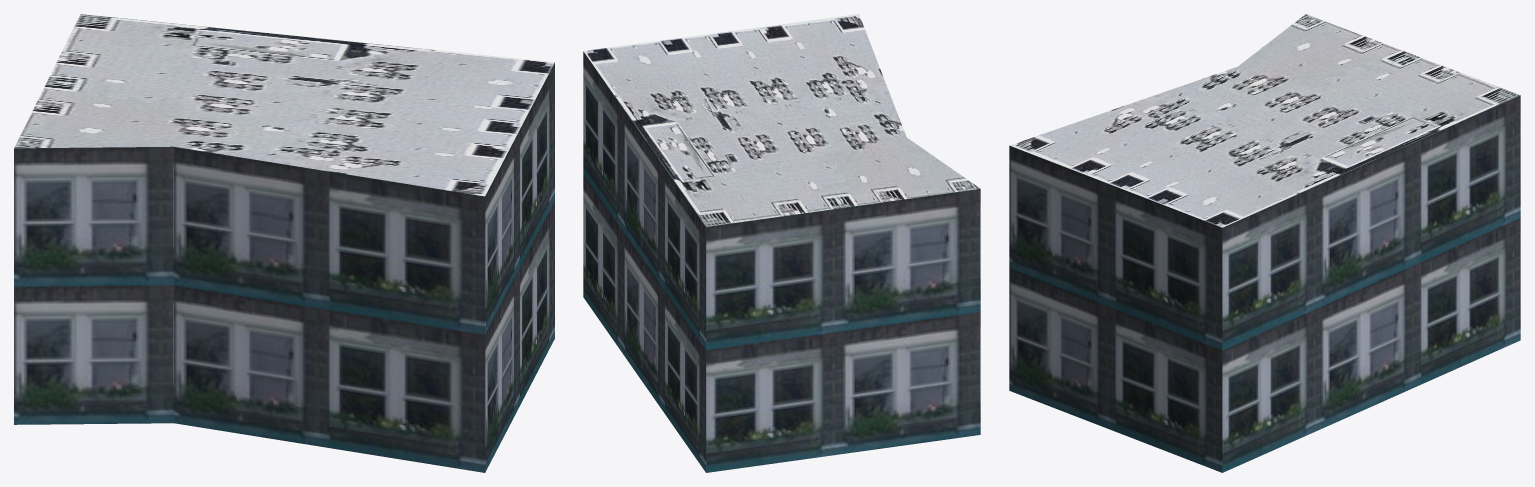
Rendered from ResTex__5315.fbx.
3 views of the same model, side by side, from view 1: azimuth 30°, elevation 25°; view 2: azimuth 150°, elevation 25°; view 3: azimuth 270°, elevation 25° (orthographic). The views are drawn at different scales.
Parts seen in each view (by area): view 1: CityEngineMaterial_11_m, CityEngineMaterial_4_m; view 2: CityEngineMaterial_11_m, CityEngineMaterial_4_m; view 3: CityEngineMaterial_11_m, CityEngineMaterial_4_m.
Boxes of the visible parts, <box> form: CityEngineMaterial_11_m: <box>14,62,554,472</box>; CityEngineMaterial_4_m: <box>14,14,554,196</box>; CityEngineMaterial_11_m: <box>583,51,980,472</box>; CityEngineMaterial_4_m: <box>583,14,980,226</box>; CityEngineMaterial_11_m: <box>1009,95,1520,472</box>; CityEngineMaterial_4_m: <box>1010,14,1520,227</box>.
Size of the model in its own units: 11.21 by 6 by 11.33.
Materials: 2 (2 with a texture image).
